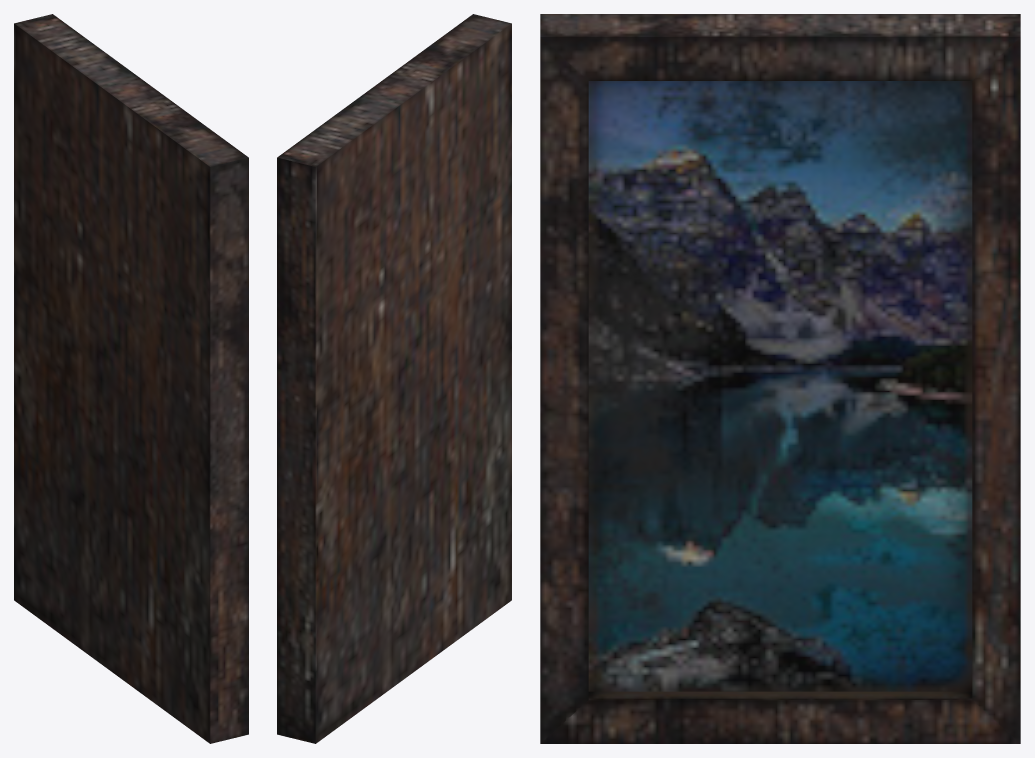
The model's file is Frame_03.FBX.
3 views of the same model, side by side, from view 1: azimuth 30°, elevation 25°; view 2: azimuth 150°, elevation 25°; view 3: azimuth 270°, elevation 25° (orthographic). The views are drawn at different scales.
Parts seen in each view (by area): view 1: Frame_03; view 2: Frame_03; view 3: Frame_03.
Part boxes in pixels (left/top/right/bottom): Frame_03: left=14, top=14, right=248, bottom=743; Frame_03: left=277, top=14, right=511, bottom=743; Frame_03: left=540, top=14, right=1020, bottom=743.
Bounding box in the file's own units: 7.39 × 105 × 64.98.
